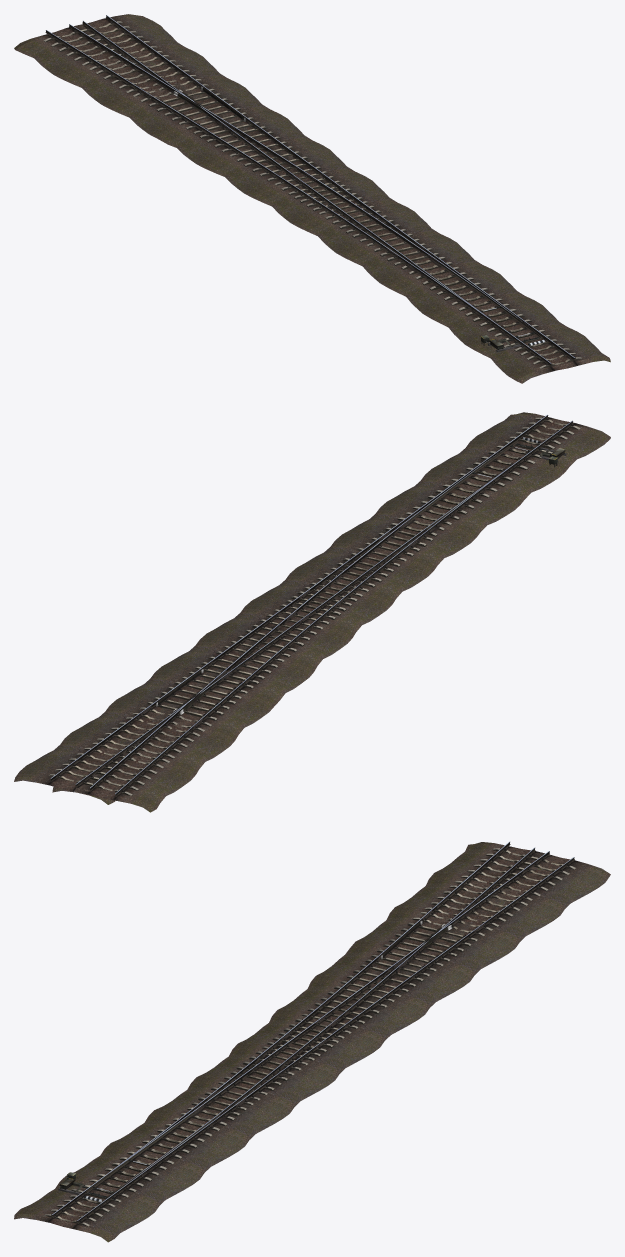
The model's file is TSM_Jction_1l11_L_Pr.gltf.
3 renders of one model, top to bottom at view 1: azimuth 30°, elevation 25°; view 2: azimuth 150°, elevation 25°; view 3: azimuth 330°, elevation 25°, orthographic. The views are drawn at different scales.
Bounding box in the file's own units: 9.11 × 0.9462 × 55.92.
Materials: 1 (1 with a texture image).
